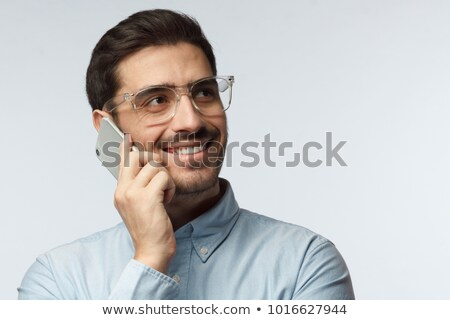phone: (91, 119, 144, 194)
talk: (85, 64, 232, 245)
